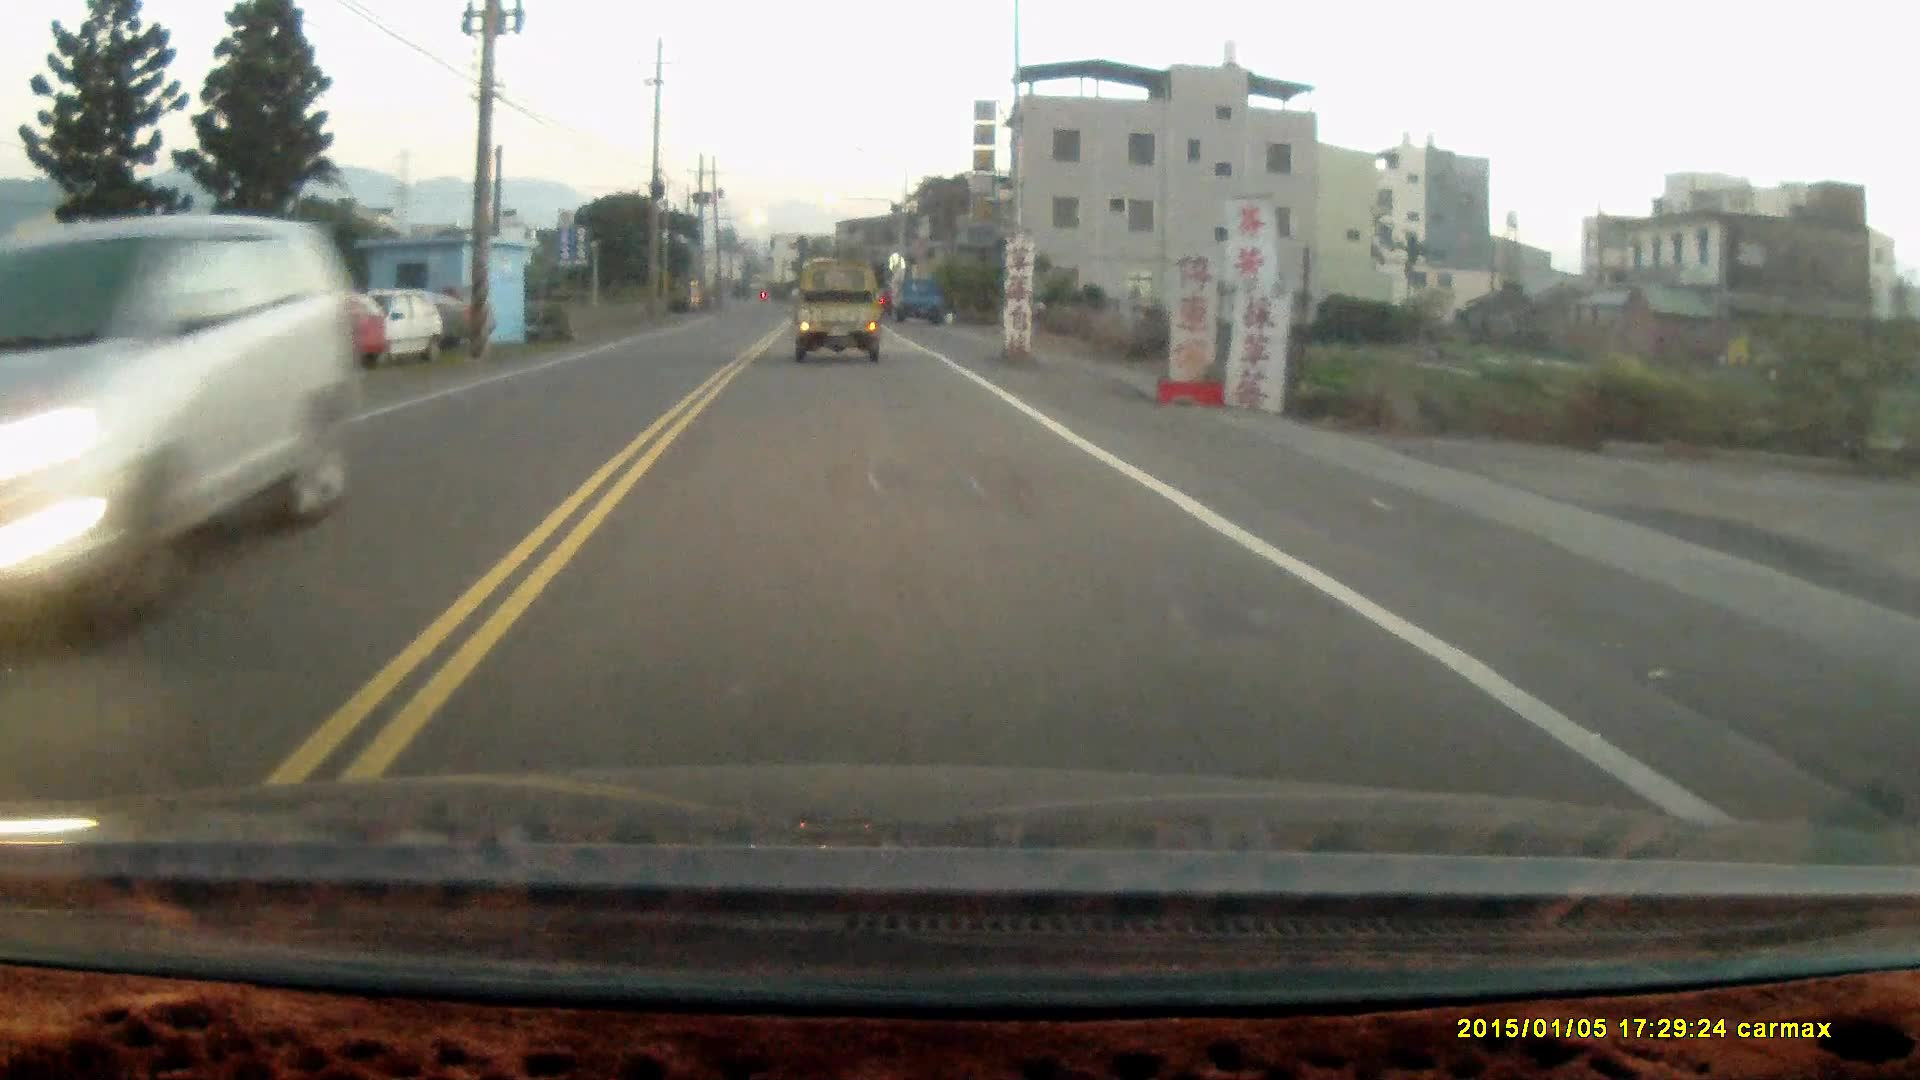vehicle: (1, 214, 323, 611), (793, 272, 884, 371), (351, 293, 444, 371), (897, 280, 949, 331)
